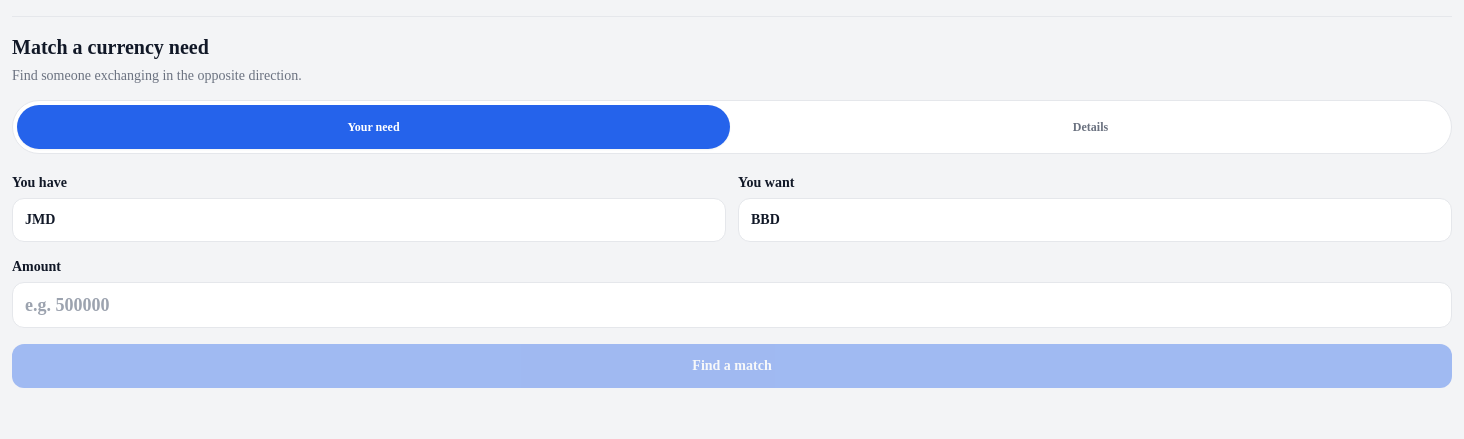
Test: FxNettingRail — settlement-native credit file readout › renders the thin-file state honestly — no score, path forward named
Click the button "Details": (1090, 127) left=734, top=105, right=1447, bottom=149
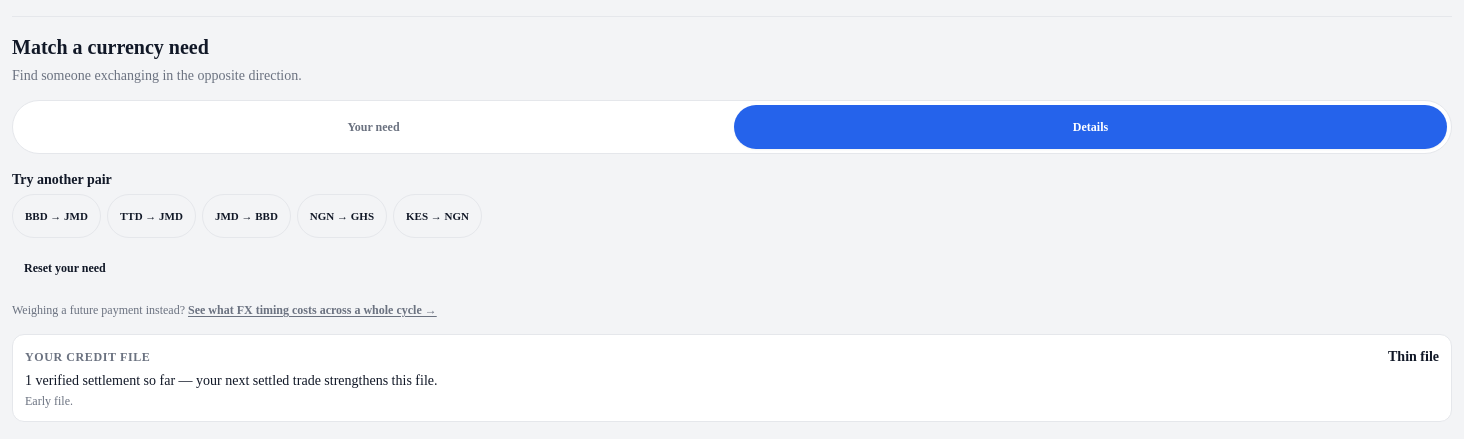
Check: the text with test id "fx-credit-score" reads "Thin file", box left=1388, top=349, right=1439, bottom=364
Check: the text with test id "fx-credit-summary" shows "next settled trade strengthens this file", box left=25, top=373, right=438, bottom=388
